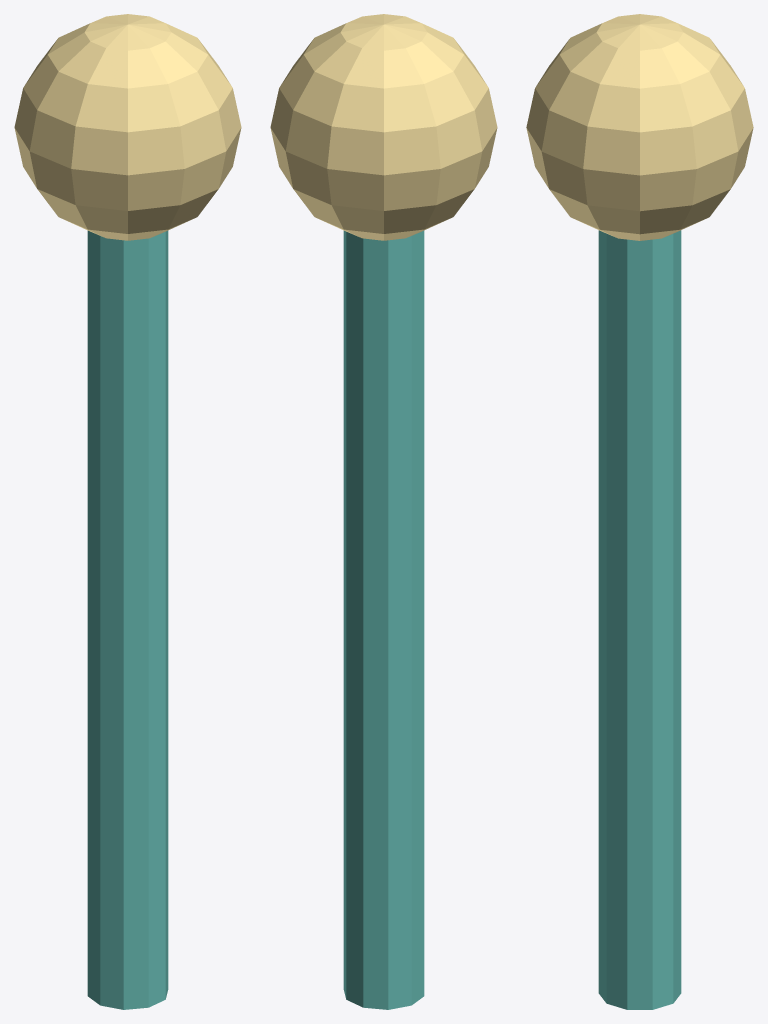
File: Lamp.glb
3 renders of one model, left to right at view 1: azimuth 30°, elevation 25°; view 2: azimuth 150°, elevation 25°; view 3: azimuth 270°, elevation 25°, orthographic.
Parts seen in each view (by area): view 1: Lamp; view 2: Lamp; view 3: Lamp.
Part boxes in pixels (x1=…): Lamp: x1=14, y1=14, x2=241, y2=1009; Lamp: x1=270, y1=14, x2=497, y2=1009; Lamp: x1=526, y1=14, x2=753, y2=1009.
Size of the model in its own units: 0.44 by 2.07 by 0.44.
